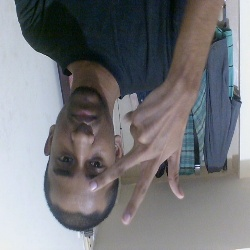hand: (105, 77, 197, 238)
